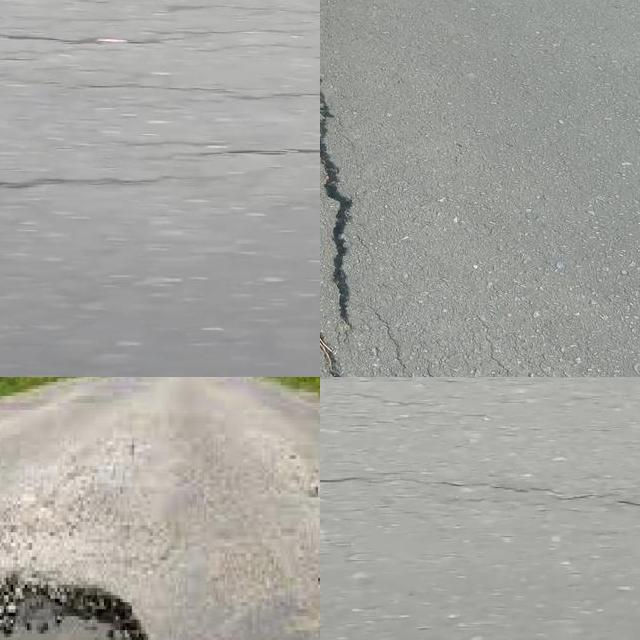Melintang: (0, 165, 177, 201), (320, 466, 409, 492)
Memanjang: (320, 56, 364, 377)
